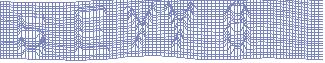5: (15, 13, 48, 59)
8: (220, 1, 253, 56)
E: (73, 5, 112, 55)
y: (161, 2, 197, 53), (122, 3, 158, 51)
